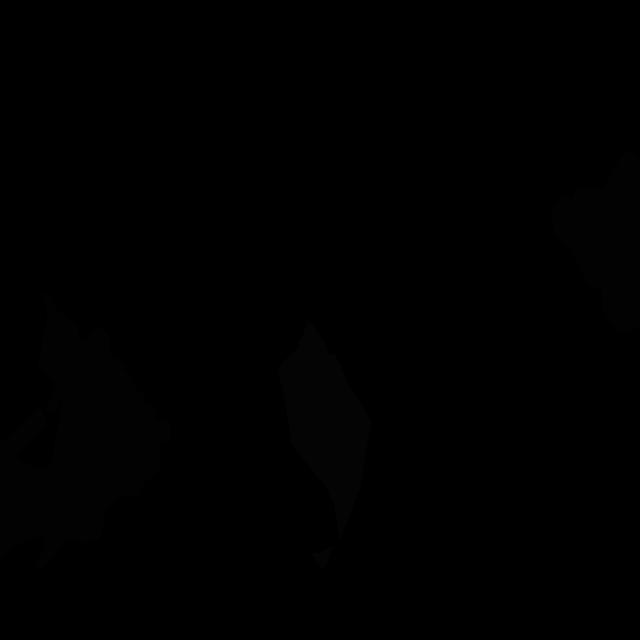cardboard: (43, 326, 148, 543), (551, 152, 640, 291), (0, 407, 68, 572), (37, 292, 89, 412), (600, 251, 640, 333), (141, 402, 172, 487)
soft_plastic: (278, 321, 371, 542), (312, 546, 338, 569)
